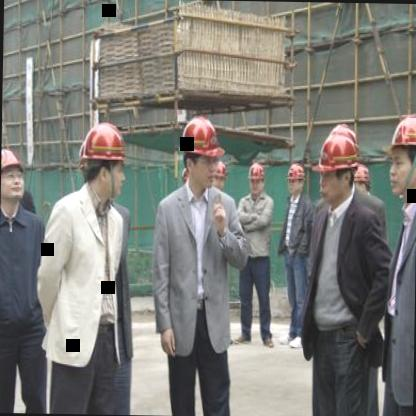helmet: (78, 122, 128, 202), (314, 122, 363, 201), (178, 115, 221, 188), (382, 111, 416, 190), (0, 149, 28, 209), (243, 156, 266, 195), (283, 158, 304, 197)
